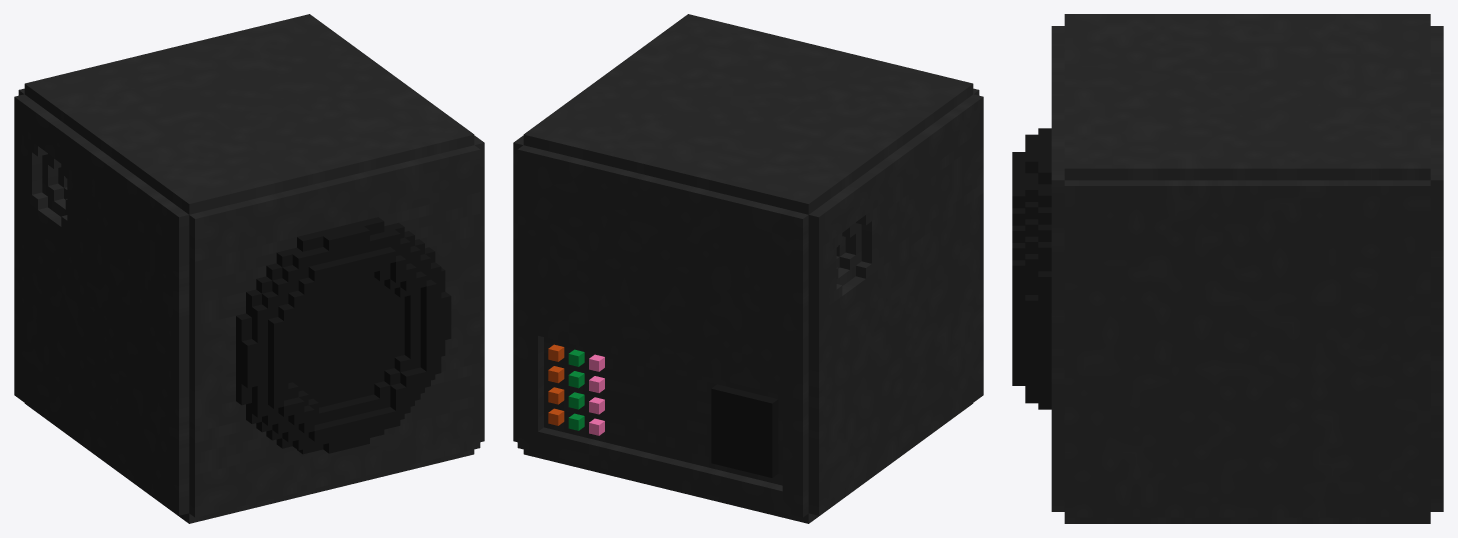
Rendered from MediumObject_Speaker.fbx.
The picture shows the model from 3 angles, left to right: view 1: azimuth 30°, elevation 25°; view 2: azimuth 150°, elevation 25°; view 3: azimuth 270°, elevation 25°; orthographic projection. The views are drawn at different scales.
Visible parts, largest first — view 1: Speaker; view 2: Speaker; view 3: Speaker.
Boxes of the visible parts, box(x1,y1,x2,y2) form: Speaker: box(14, 14, 484, 523); Speaker: box(513, 14, 983, 523); Speaker: box(1012, 14, 1443, 523).
Bounding box in the file's own units: 30 × 30 × 33.
